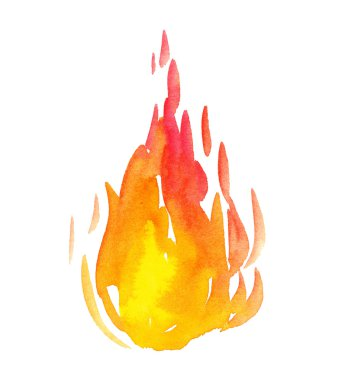fire: (90, 41, 257, 346)
